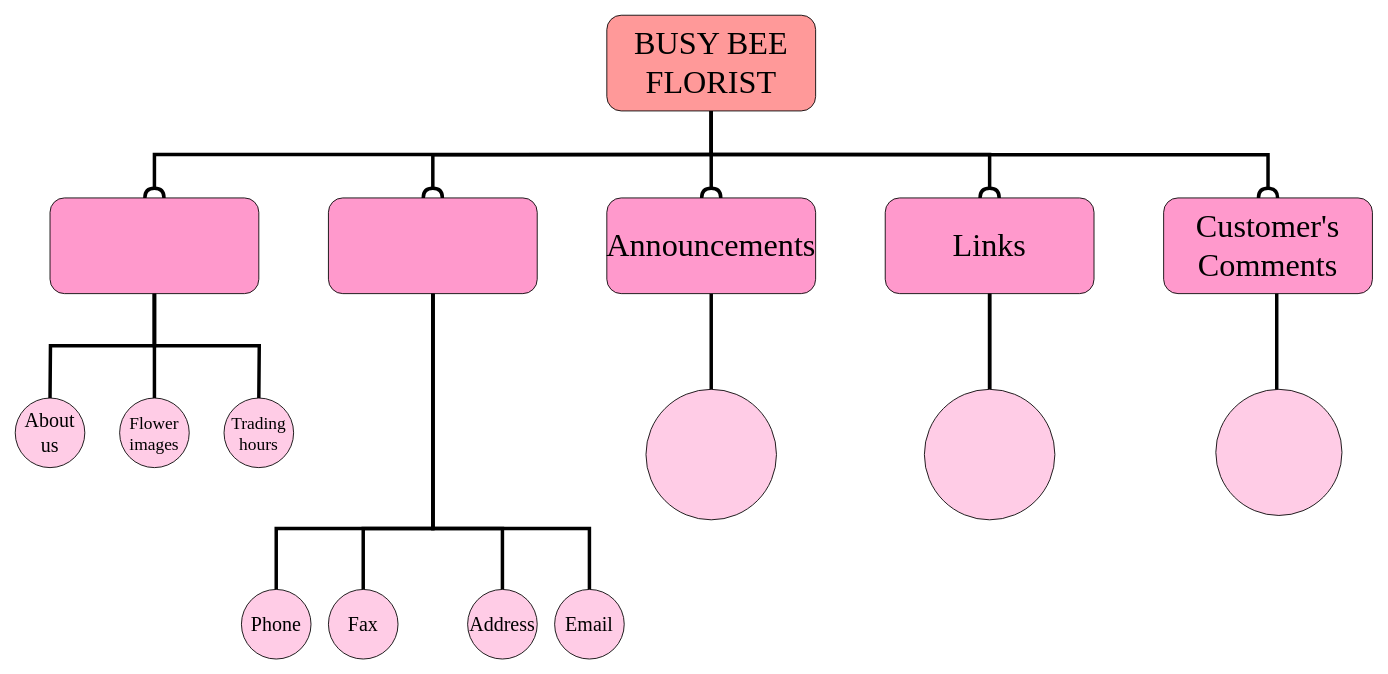
The diagram is 1388 pixels wide and 674 high, and some of its shapes have lost their labels. Each missing label, with the centre of its shape:
Contact: point 432,245
Home: point 154,245
Important announcement: point 710,454
Information about flower: point 989,454
Reviews: point 1278,451
